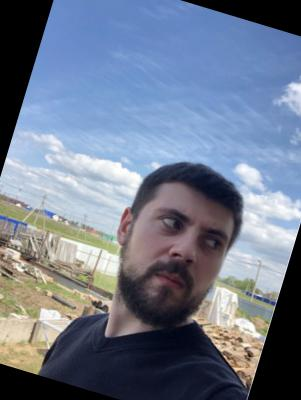without_mask: (118, 193, 238, 339)
